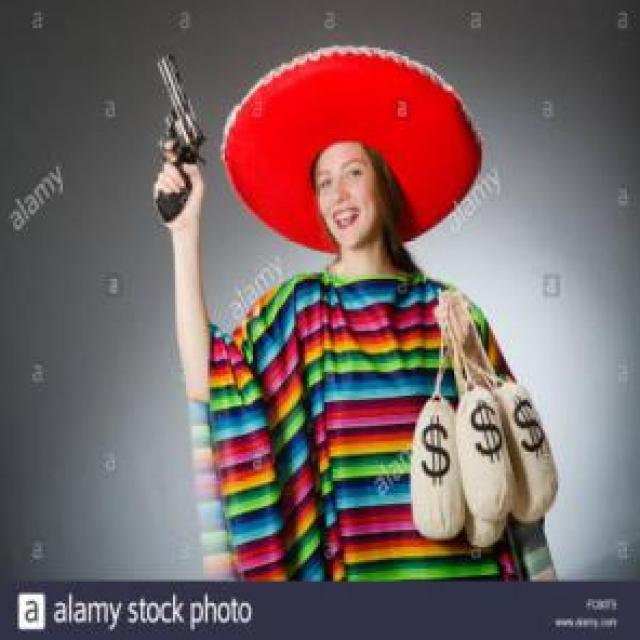pistol: (138, 45, 206, 223)
